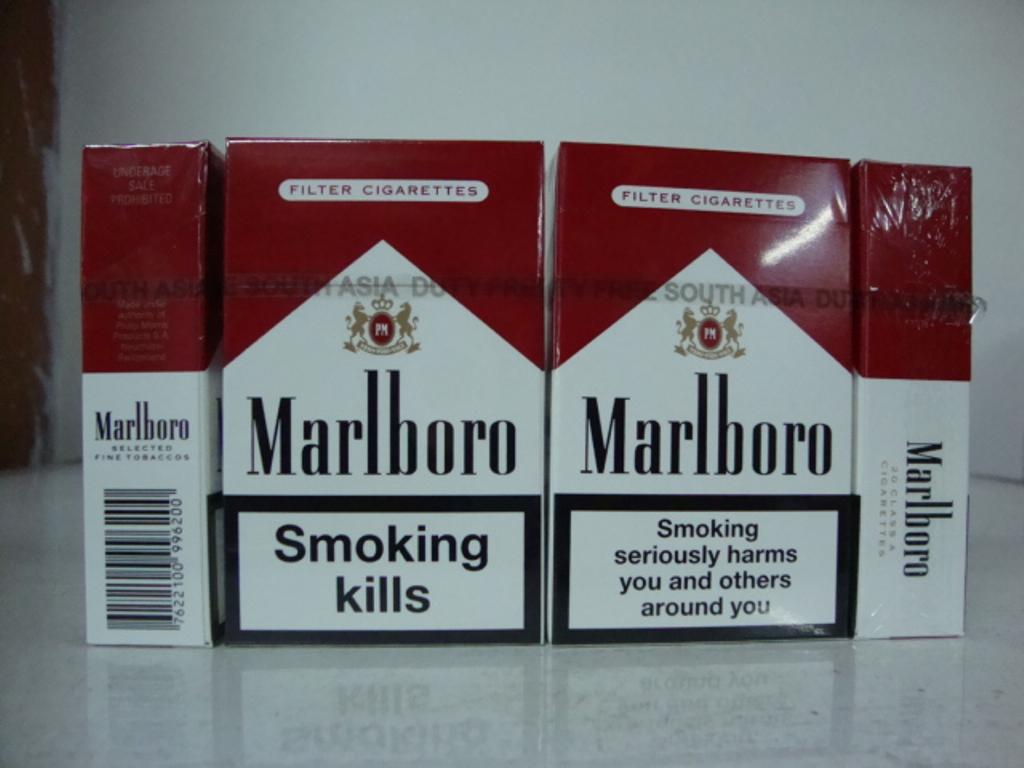marlboro_red: (224, 142, 541, 640), (555, 146, 849, 639)
